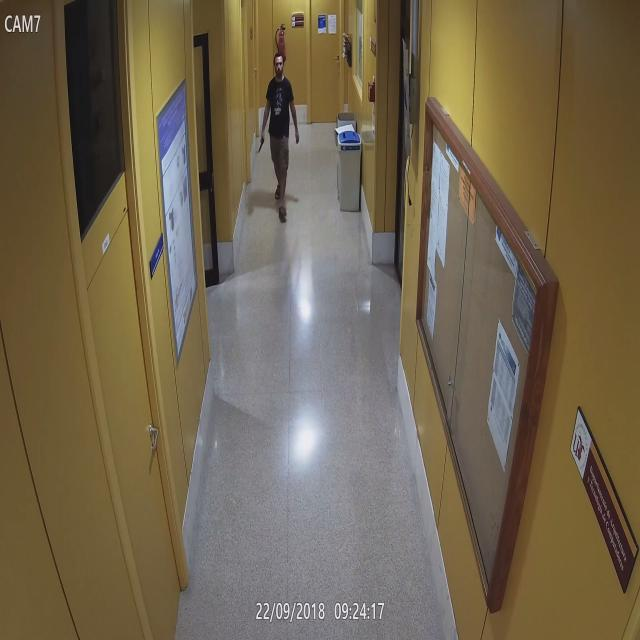Gun: (256, 132, 266, 154)
